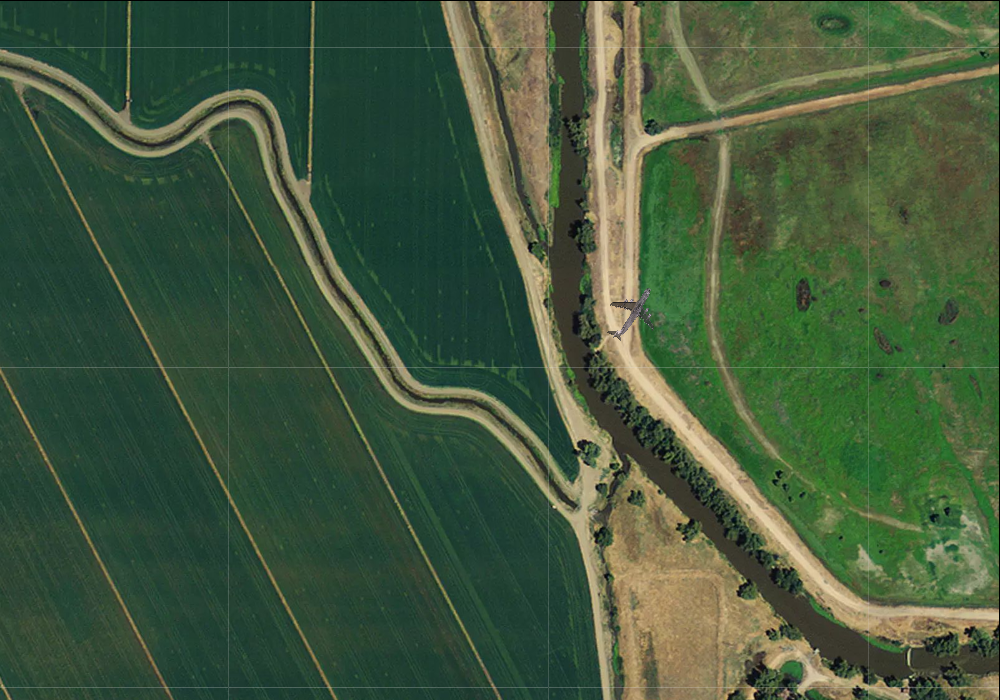plane: (591, 271, 673, 354)
